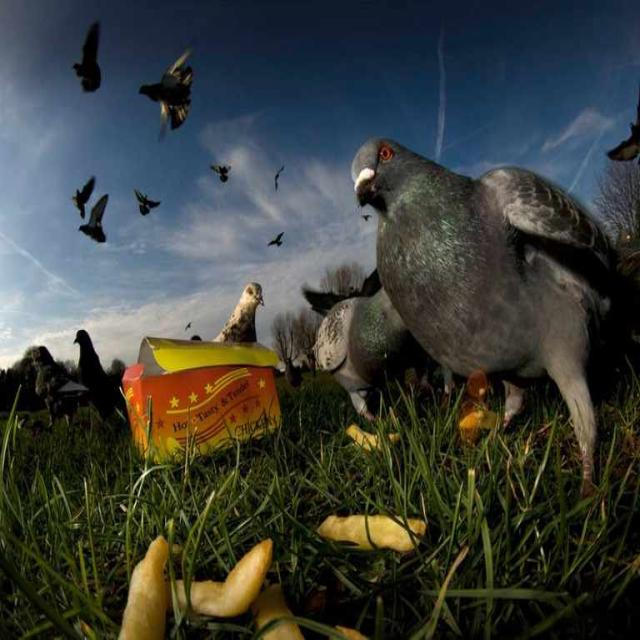Pigeon: (340, 123, 640, 481), (138, 34, 203, 141), (214, 268, 280, 347), (61, 8, 116, 100), (71, 190, 125, 261), (254, 212, 304, 260), (130, 181, 168, 231), (202, 153, 235, 200)
